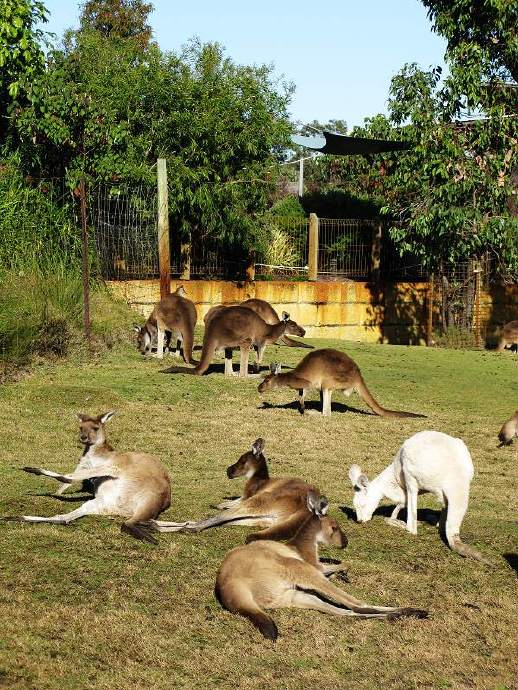kangaroo: (213, 496, 429, 640), (13, 406, 178, 552), (347, 429, 481, 561), (156, 435, 331, 536), (257, 344, 424, 422), (195, 303, 308, 374), (128, 287, 200, 367)
